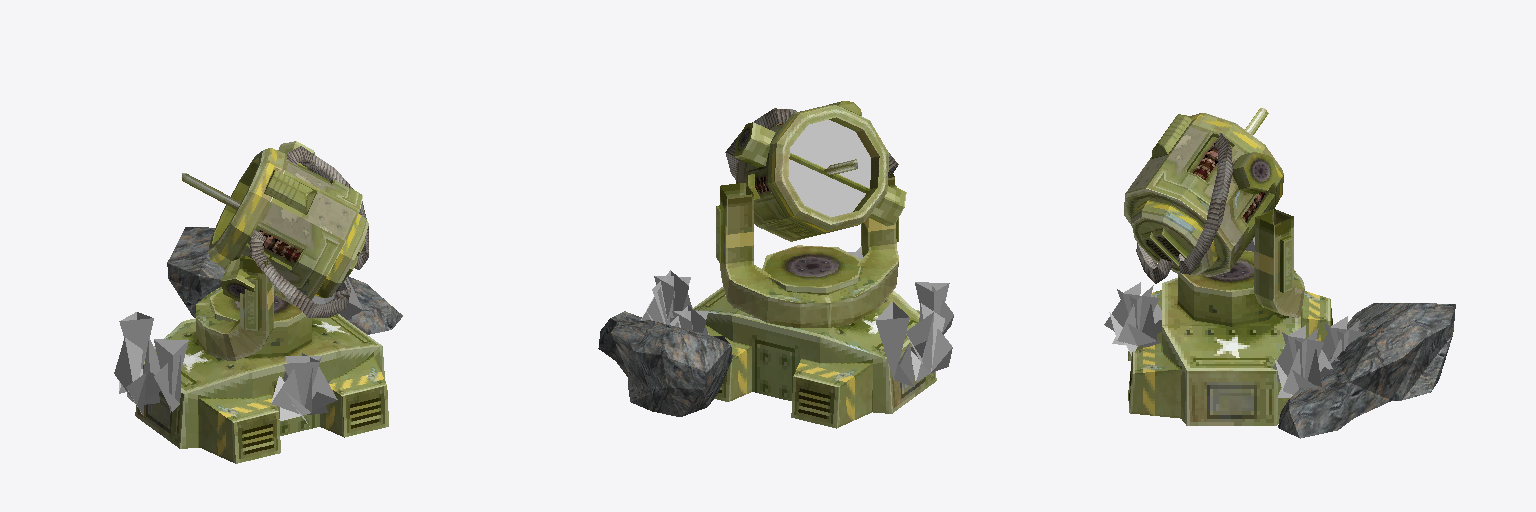
The picture shows the model from 3 angles: view 1: azimuth 30°, elevation 25°; view 2: azimuth 150°, elevation 25°; view 3: azimuth 270°, elevation 25°; orthographic projection.
Visible parts, largest first — view 1: Node 0, Node 2, Node 1; view 2: Node 0, Node 2, Node 1; view 3: Node 0, Node 2, Node 1.
Part boxes in pixels (x1,y1,x2,y2): Node 0: (114,227,402,463); Node 2: (182,141,368,317); Node 1: (196,253,311,360); Node 0: (598,246,953,428); Node 2: (725,101,906,241); Node 1: (716,171,898,327); Node 0: (1104,237,1455,438); Node 2: (1124,108,1283,283); Node 1: (1157,209,1304,326).
Size of the model in its own units: 11.38 by 8.93 by 11.01.
7 materials, 3 textured.